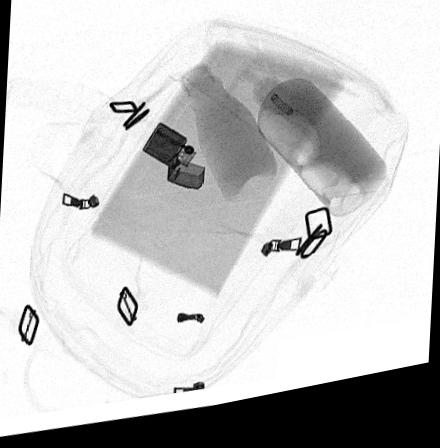Lighter: (142, 129, 205, 198)
